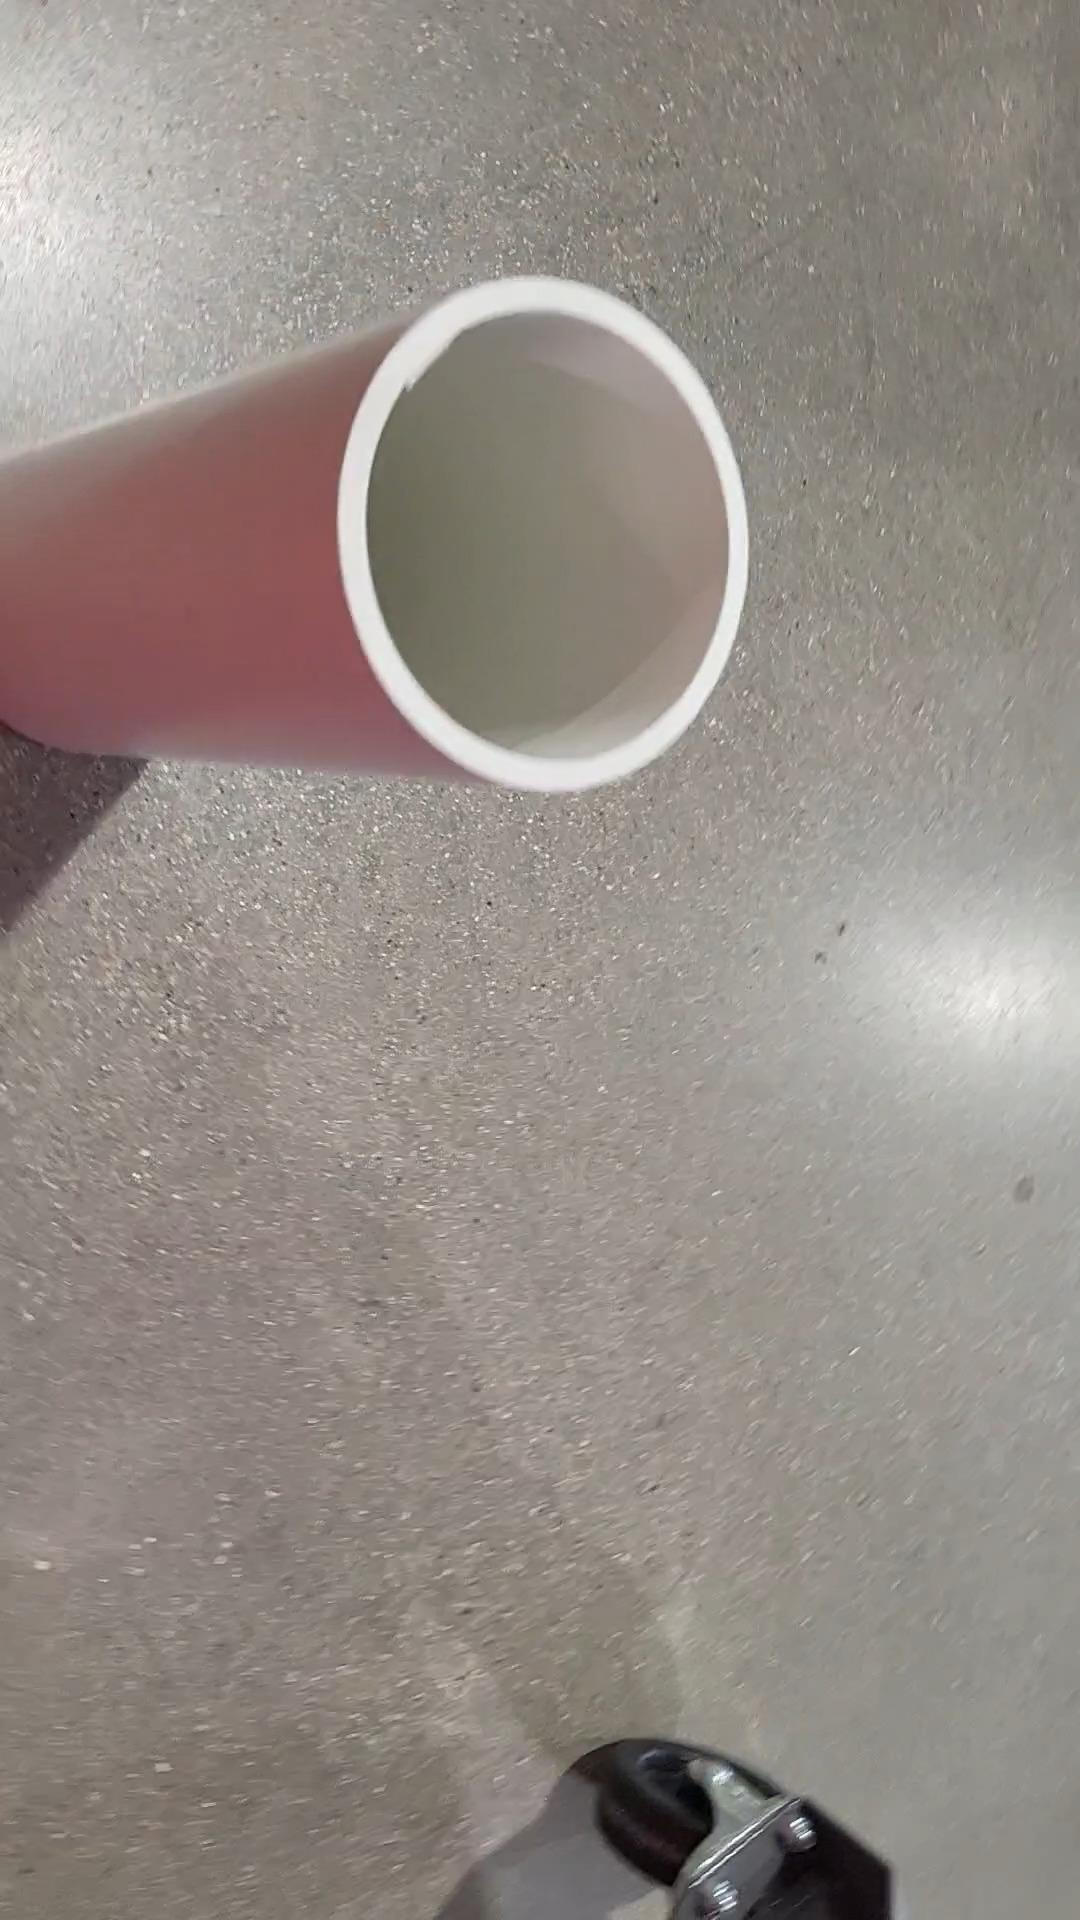coral: (0, 277, 764, 790)
